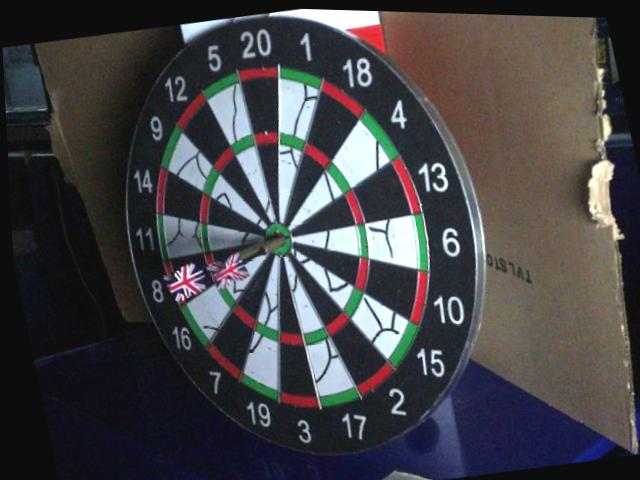bullseye: (265, 224, 291, 256)
